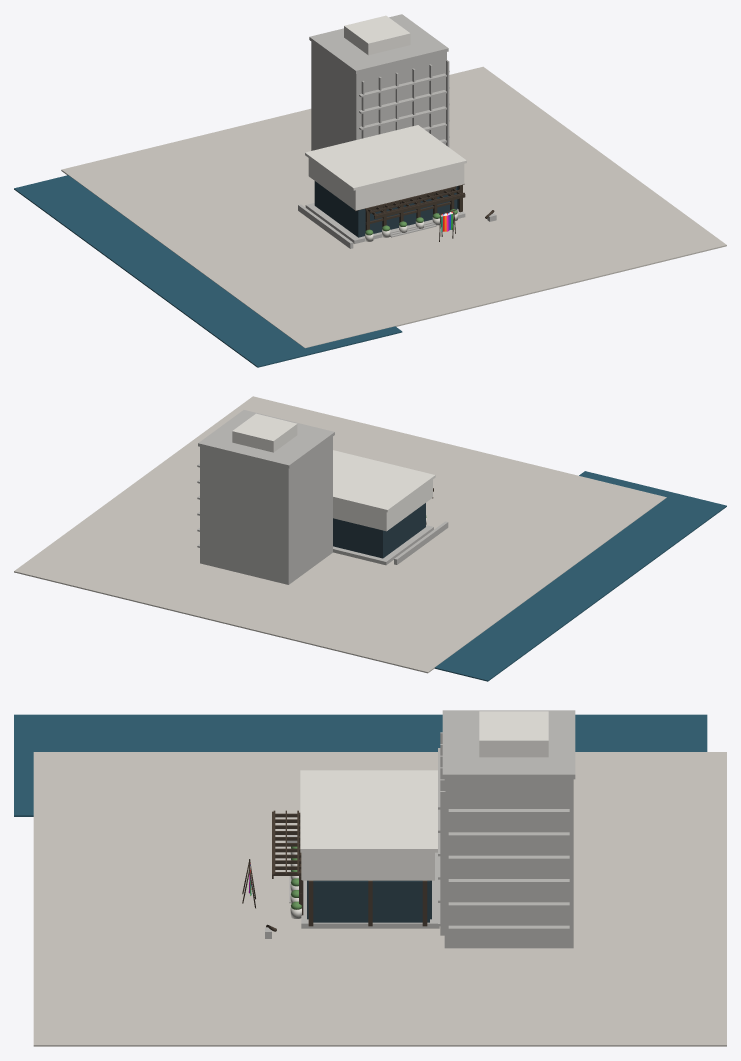
File: resort_building_final.glb
The picture shows the model from 3 angles, top to bottom: view 1: azimuth 30°, elevation 25°; view 2: azimuth 150°, elevation 25°; view 3: azimuth 270°, elevation 25°; orthographic projection. The views are drawn at different scales.
Visible parts, largest first — view 1: Ground, Sea, Tower, RoofSlab, UpperFloor, TowerParapet, GlassGround, Penthouse, Plinth; view 2: Ground, Tower, Sea, RoofSlab, TowerParapet, GlassGround, UpperFloor, Penthouse, Plinth, SeaWall; view 3: Ground, Sea, Tower, RoofSlab, TowerParapet, GlassSideX, UpperFloor, Penthouse, Plinth, TFinF_13.8, TBandR_5.0, TBandR_12.799999999999999 (+4 smaller).
Boxes of the visible parts, box(x1,y1,x2,y2) form: Ground: box(61, 66, 726, 348); Sea: box(14, 175, 402, 367); Tower: box(311, 41, 446, 150); RoofSlab: box(305, 125, 466, 190); UpperFloor: box(308, 158, 464, 210); TowerParapet: box(309, 14, 448, 73); GlassGround: box(314, 181, 457, 237); Penthouse: box(344, 15, 410, 55); Plinth: box(305, 203, 465, 243); Ground: box(14, 396, 666, 673); Tower: box(200, 437, 332, 584); Sea: box(434, 471, 726, 681); RoofSlab: box(333, 450, 435, 512); TowerParapet: box(198, 410, 334, 468); GlassGround: box(333, 503, 425, 558); UpperFloor: box(333, 479, 432, 531); Penthouse: box(232, 413, 297, 452); Plinth: box(333, 525, 433, 565); SeaWall: box(394, 521, 448, 564); Ground: box(33, 752, 726, 1046); Sea: box(14, 714, 707, 816); Tower: box(444, 779, 573, 948); RoofSlab: box(300, 770, 437, 852); TowerParapet: box(442, 710, 575, 779); GlassSideX: box(313, 881, 429, 922); UpperFloor: box(301, 852, 434, 880); Penthouse: box(479, 711, 548, 757); Plinth: box(301, 852, 439, 928); TFinF_13.8: box(440, 791, 445, 935); TBandR_5.0: box(448, 902, 569, 907); TBandR_12.799999999999999: box(448, 832, 569, 837).
Bounding box in the file's own units: 79 × 21.79 × 72.
9 materials, 1 textured.
